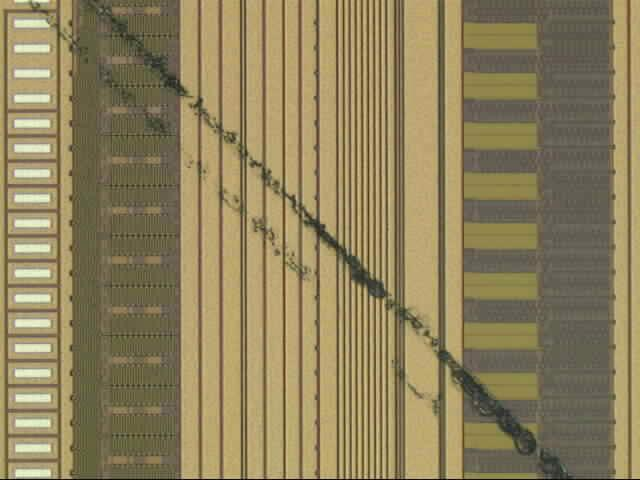SCRATCH: (23, 1, 570, 480)
